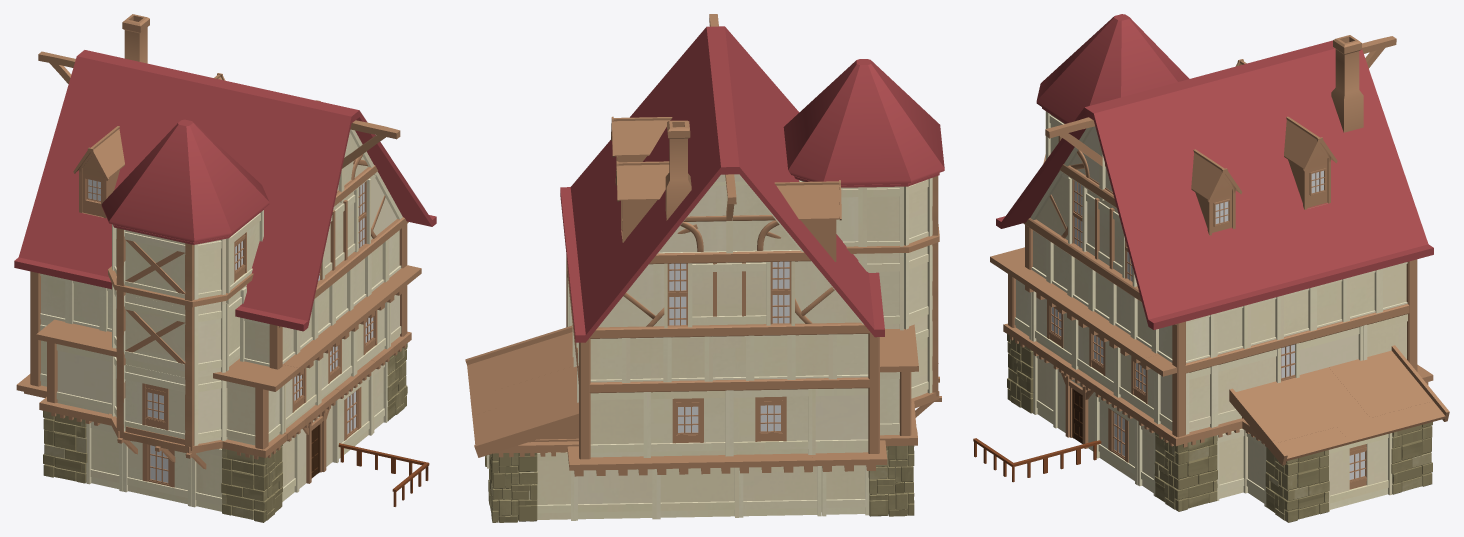
File: taberna.fbx
3 renders of one model, left to right at view 1: azimuth 30°, elevation 25°; view 2: azimuth 150°, elevation 25°; view 3: azimuth 270°, elevation 25°, orthographic. The views are drawn at different scales.
Visible parts, largest first — view 1: TABERNA; view 2: TABERNA; view 3: TABERNA.
Part boxes in pixels (bbox=[...]): TABERNA: bbox=[14, 14, 436, 522]; TABERNA: bbox=[465, 14, 944, 522]; TABERNA: bbox=[973, 14, 1449, 522].
Size of the model in its own units: 1686 by 1535 by 1748.
7 materials, 2 textured.
